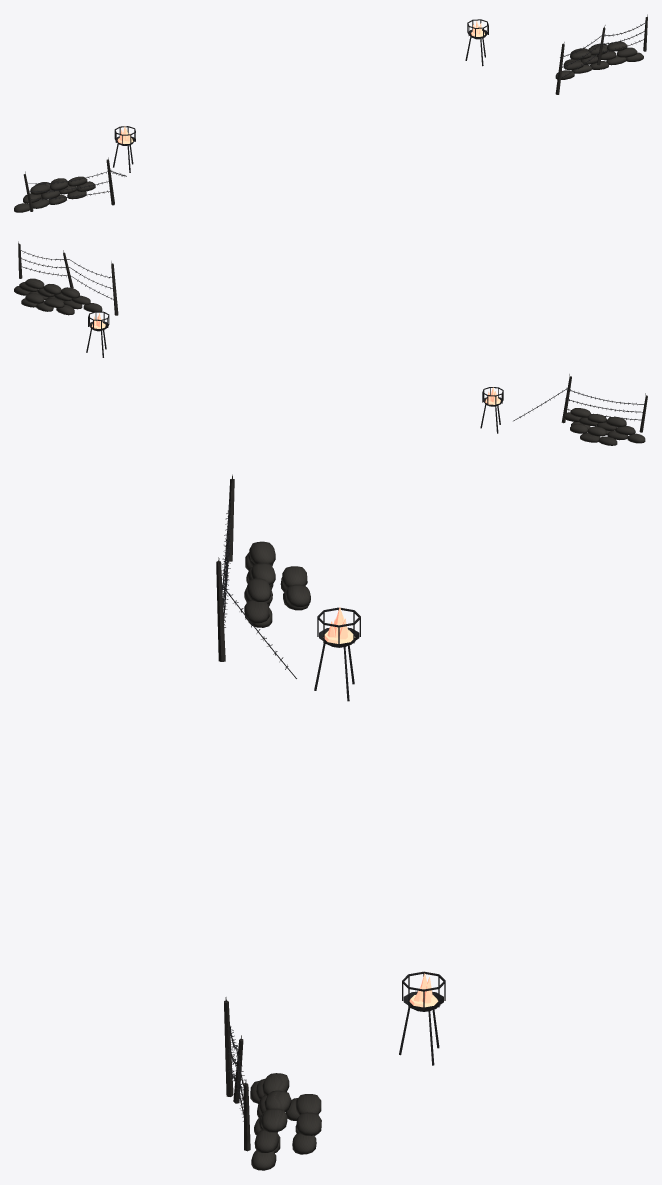
File: props.glb
The picture shows the model from 3 angles, top to bottom: view 1: azimuth 30°, elevation 25°; view 2: azimuth 150°, elevation 25°; view 3: azimuth 270°, elevation 25°; orthographic projection. The views are drawn at different scales.
Parts seen in each view (by area): view 1: Props; view 2: Props; view 3: Props.
Part boxes in pixels (box(x1,y1,x2,y2)): Props: box(14, 14, 647, 212); Props: box(14, 241, 647, 445); Props: box(216, 474, 445, 1170).
Bounding box in the file's own units: 20.57 × 1.72 × 3.25.
Materials: 2 (1 with a texture image).
